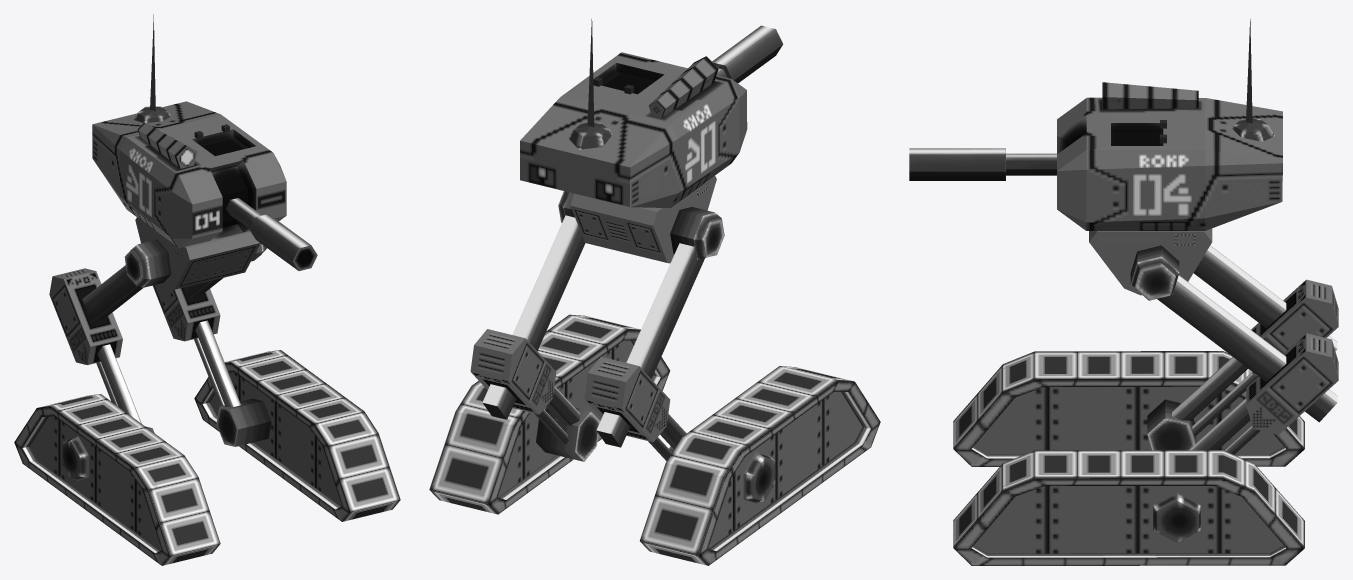
File: RollerMech.fbx
The picture shows the model from 3 angles, left to right: view 1: azimuth 30°, elevation 25°; view 2: azimuth 150°, elevation 25°; view 3: azimuth 270°, elevation 25°; orthographic projection. The views are drawn at different scales.
Visible parts, largest first — view 1: RollerMech; view 2: RollerMech; view 3: RollerMech.
Part boxes in pixels (x1,y1,x2,y2): RollerMech: (14, 14, 400, 565); RollerMech: (429, 19, 880, 565); RollerMech: (909, 19, 1338, 565).
Bounding box in the file's own units: 293 × 418 × 525.
